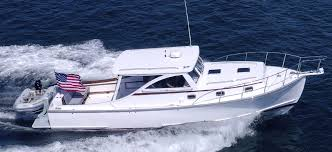boat: (14, 1, 327, 131)
